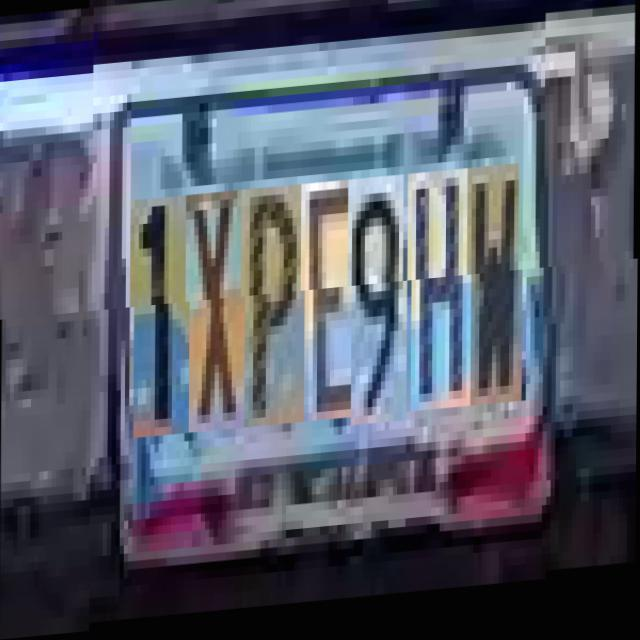1: (134, 199, 191, 441)
9: (352, 182, 408, 432)
E: (304, 186, 362, 428)
H: (411, 178, 472, 420)
P: (245, 190, 306, 433)
W: (471, 174, 523, 416)
X: (189, 195, 246, 437)
